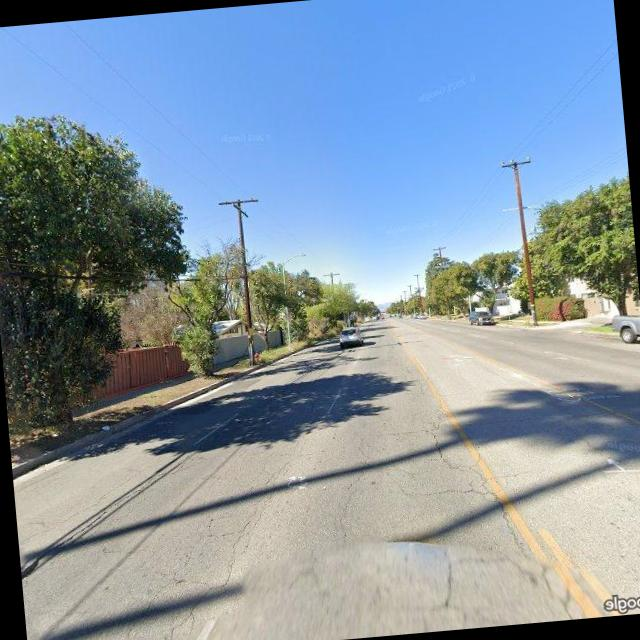pothole: (115, 421, 331, 640), (404, 365, 566, 612)
